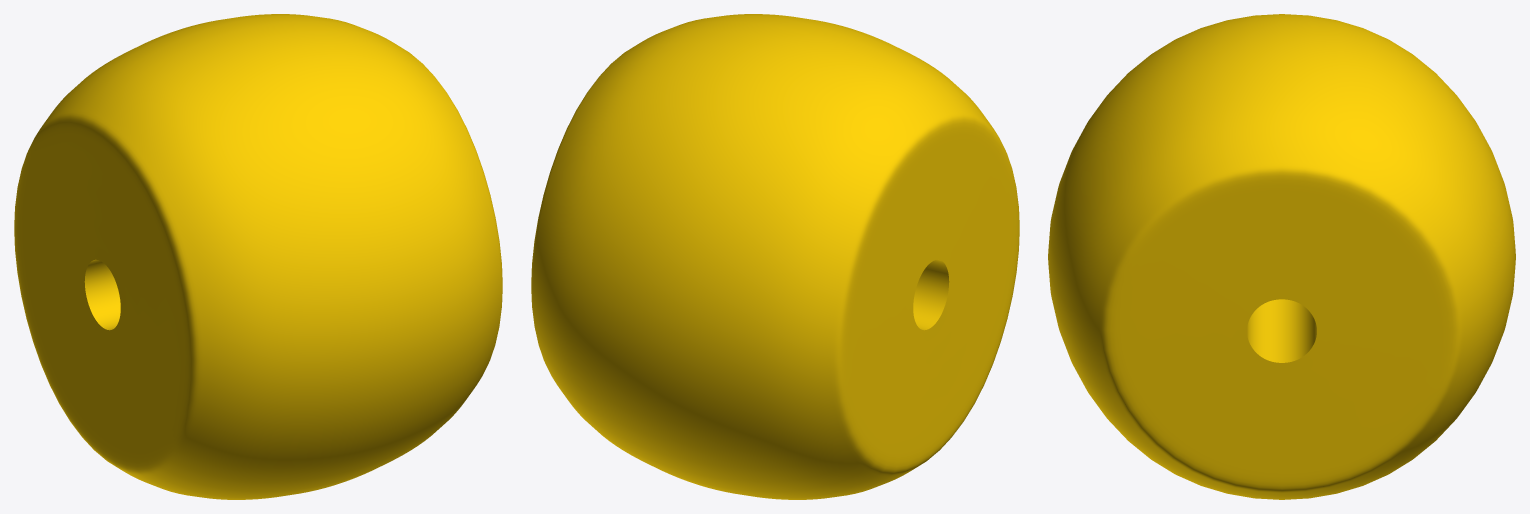
File: 磨砂珠4mm.glb
3 renders of one model, left to right at view 1: azimuth 30°, elevation 25°; view 2: azimuth 150°, elevation 25°; view 3: azimuth 270°, elevation 25°, orthographic. The views are drawn at different scales.
Visible parts, largest first — view 1: JewelCAD; view 2: JewelCAD; view 3: JewelCAD.
Boxes of the visible parts, left/top/right/bottom form: JewelCAD: left=14, top=14, right=502, bottom=499; JewelCAD: left=531, top=14, right=1019, bottom=499; JewelCAD: left=1048, top=14, right=1515, bottom=499.
Size of the model in its own units: 0.003 by 0.004 by 0.004.
